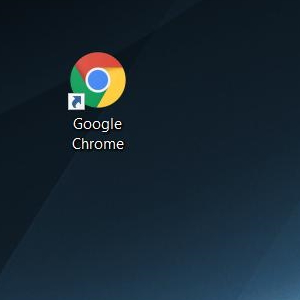chrome: (67, 51, 126, 110)
